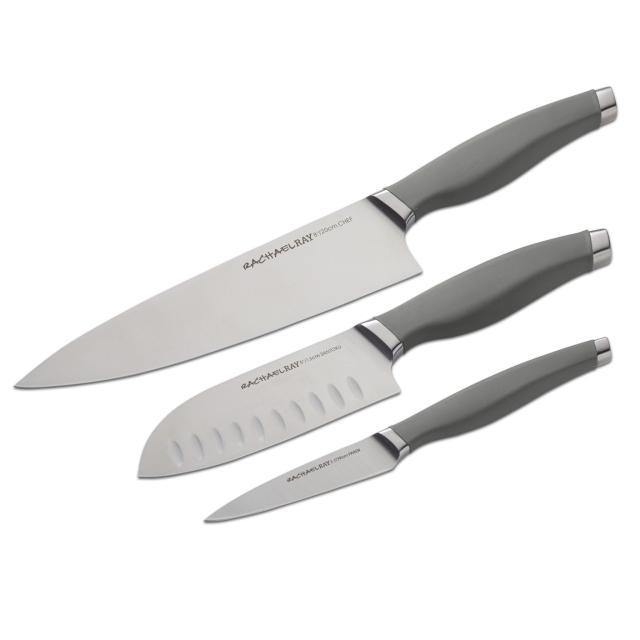Knife: (13, 84, 618, 390), (137, 227, 612, 479), (203, 335, 612, 523)
